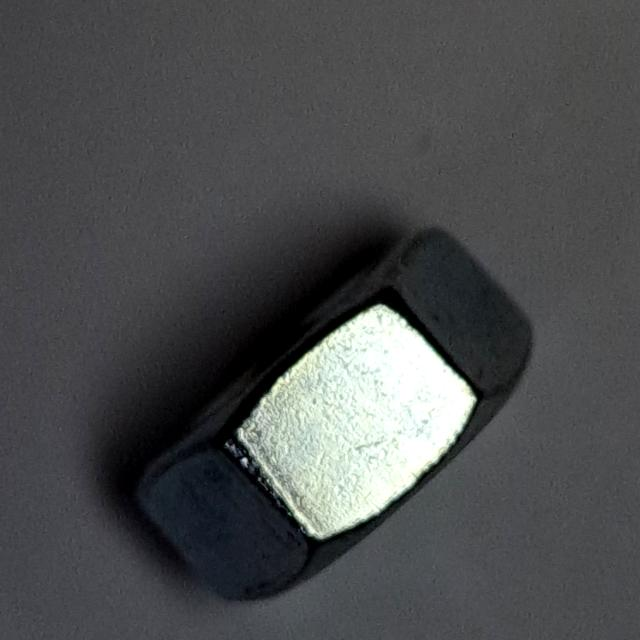Side_Excellent: (119, 211, 547, 614)
